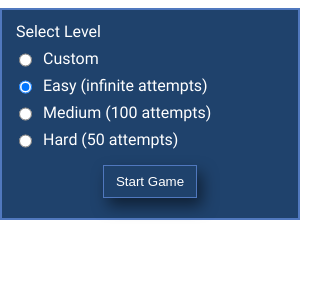
Scenario: <PickAttempts/> › should render custom attempts amount input when custom level is selected
Check: the field labelled "attempts ammount" is not shown
Click the radio button labelled "Custom" at point(26, 60), box [19,52,32,68]
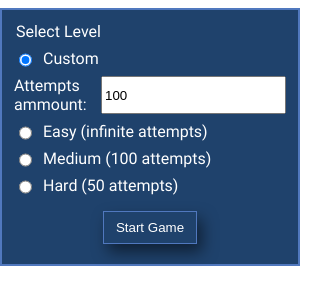
Check: the number field labelled "Attempts ammount:" is shown, box [101,76,286,114]
